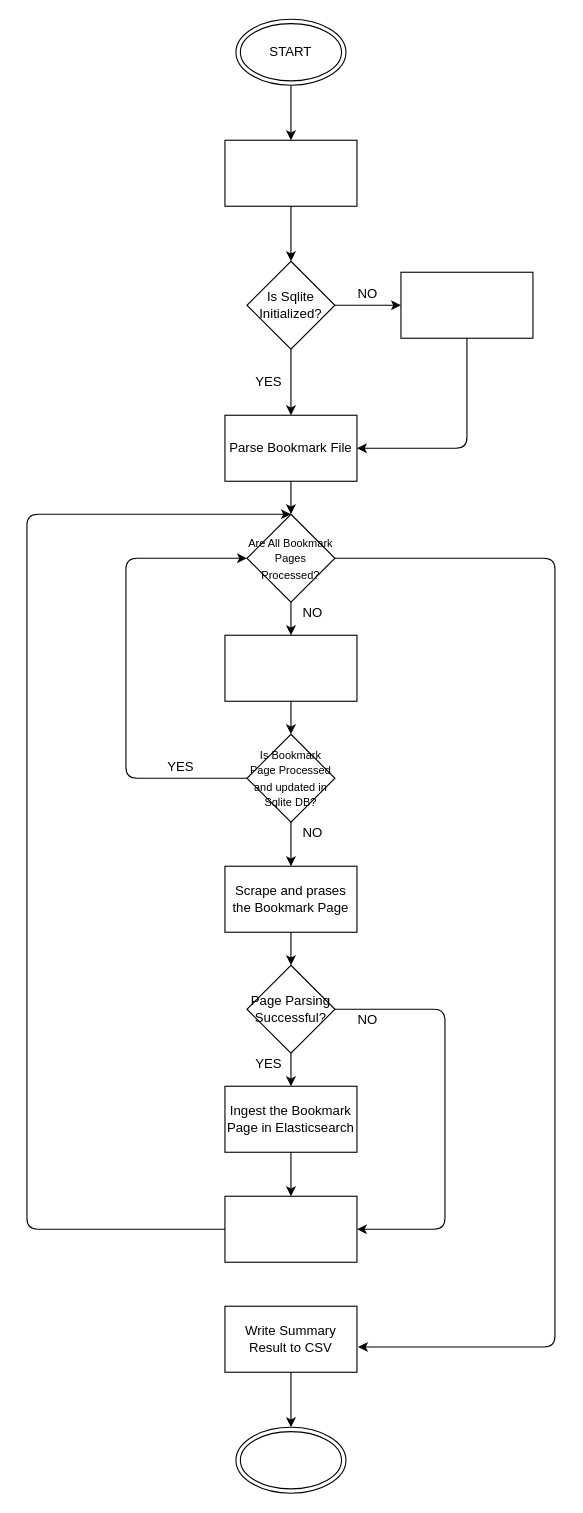
Some shapes in this 583 by 1513 pixel diagram are drawn without their labels. The centre of each missing label's shape, as x and y in pixels:
"END" belongs at (x=290, y=1459).
"Execute CLI" belongs at (x=290, y=172).
"Initialize Sqlite DB" belongs at (x=466, y=304).
"Spawn Python Process" belongs at (x=290, y=667).
"Update the Sqlite DB with Hash of Bookmark Page" belongs at (x=290, y=1228).
